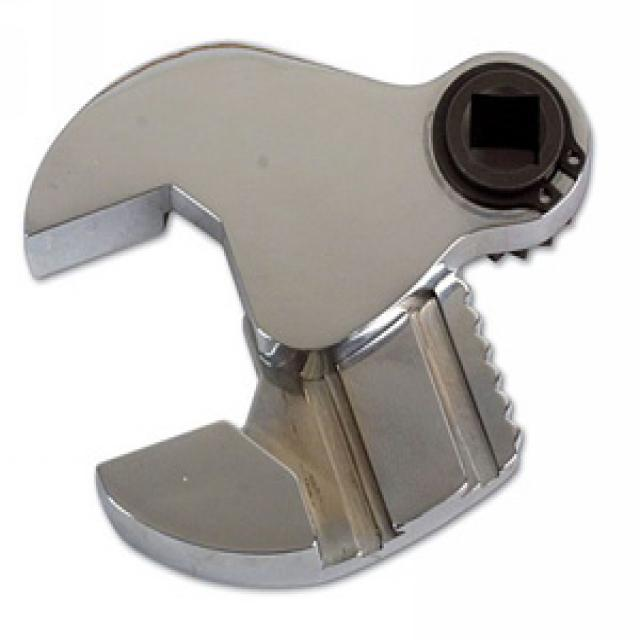wrench: (0, 37, 606, 618)
